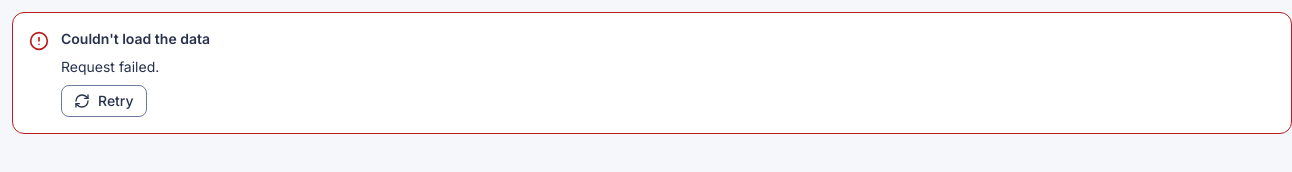
Test: QueryState maps every data situation to the right state › network error → alert with Retry that refetches
Expected: the message shows "Couldn't load the data", x1=61 y1=30 x2=210 y2=47
Click the button "Retry": coordinates (104, 101) x1=61 y1=85 x2=147 y2=117
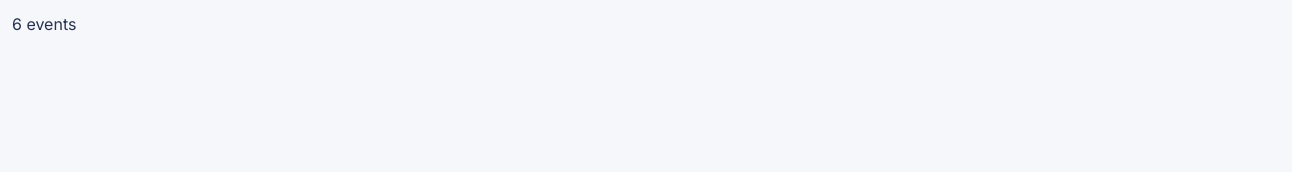
Result: the text "6 events" is shown at x1=12 y1=14 x2=76 y2=34
